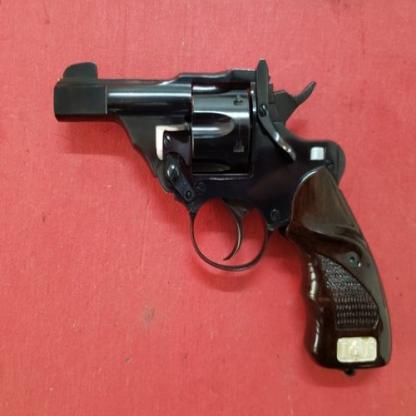handgun: (53, 58, 392, 364)
